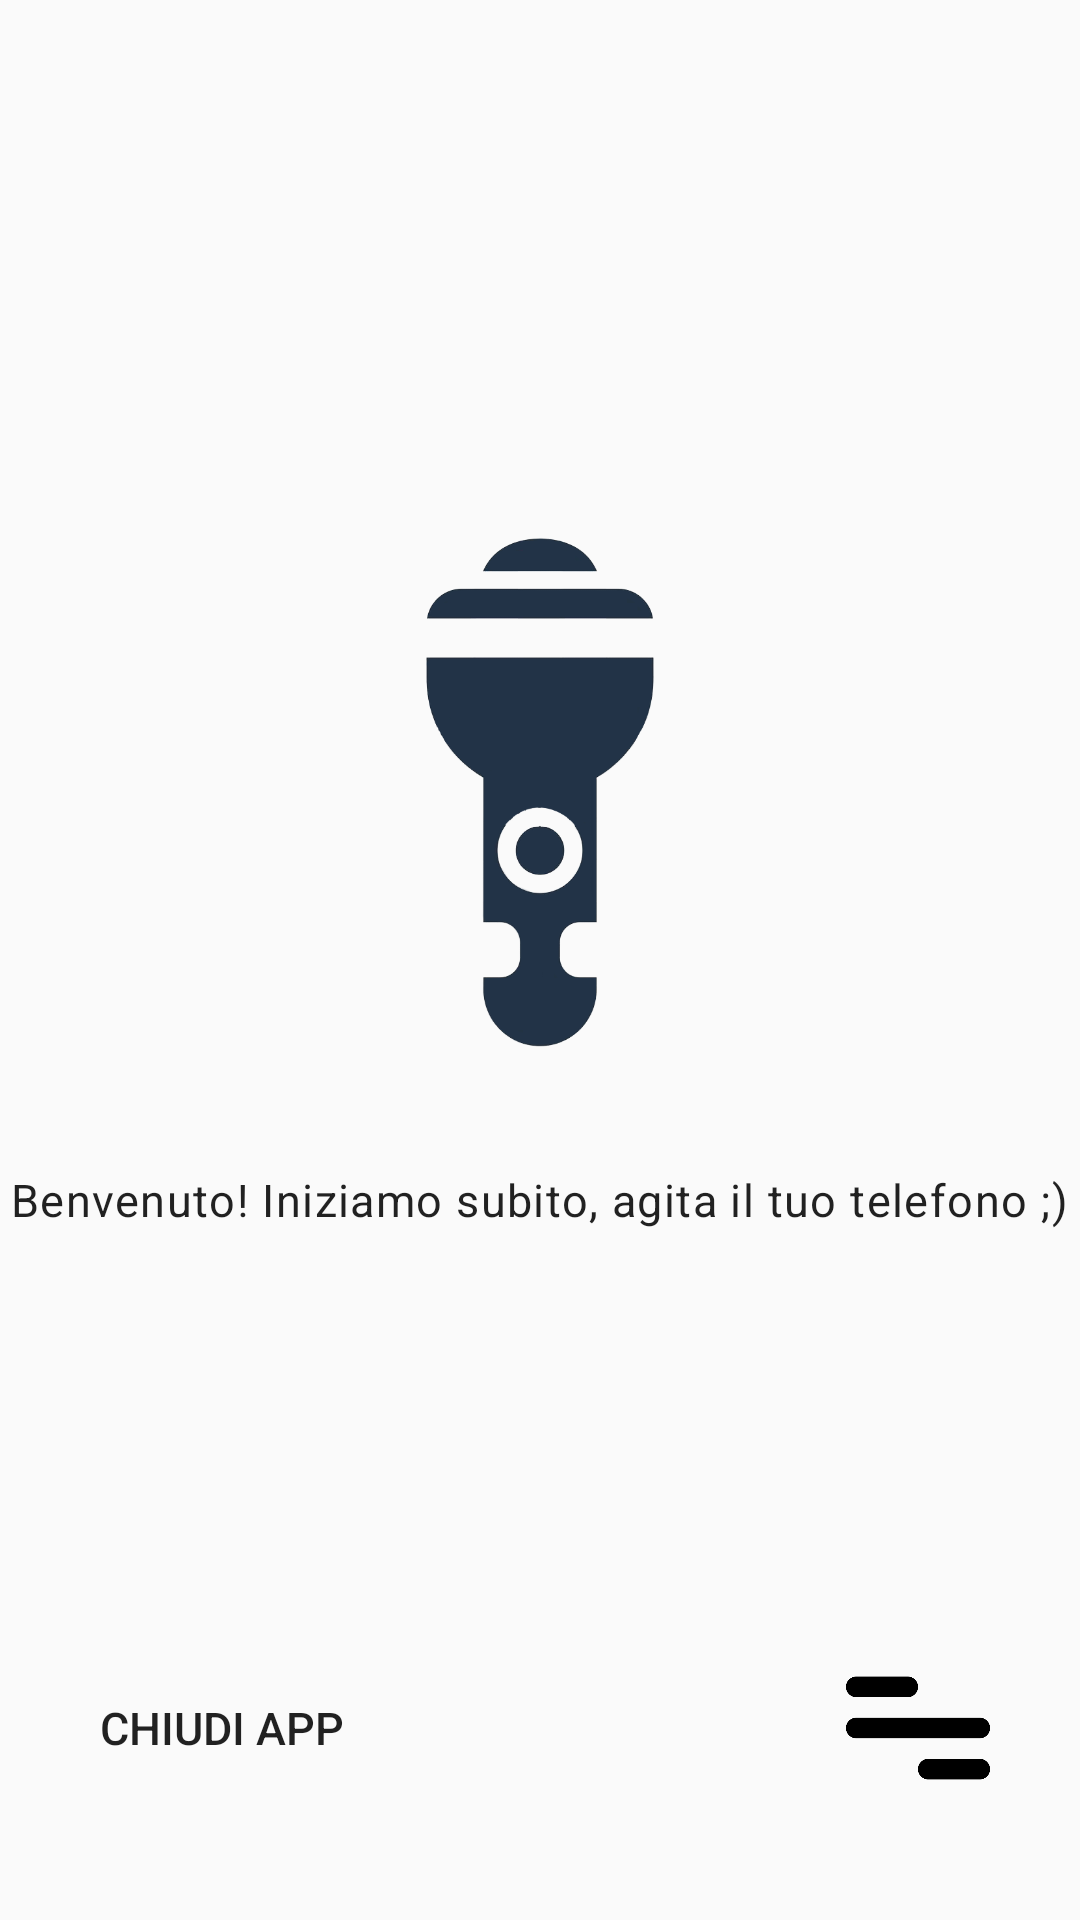

Icon click points for this 1080 × 1920 phone screenshot, format point (x, y):
menu: point (918, 1728)
